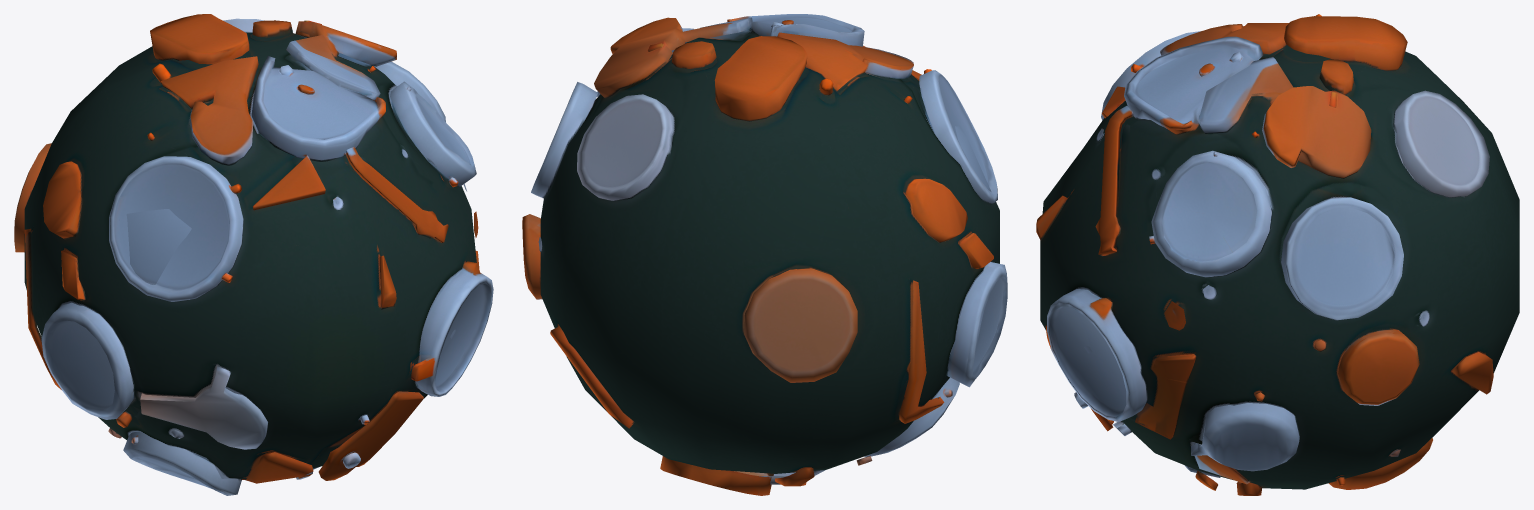
The model's file is metal+sphere+3d+model.fbx.
3 views of the same model, side by side, from view 1: azimuth 30°, elevation 25°; view 2: azimuth 150°, elevation 25°; view 3: azimuth 270°, elevation 25° (orthographic). The views are drawn at different scales.
Visible parts, largest first — view 1: tripo_7b4fe234_aa74_40f7_b0d7_00042da2679d; view 2: tripo_7b4fe234_aa74_40f7_b0d7_00042da2679d; view 3: tripo_7b4fe234_aa74_40f7_b0d7_00042da2679d.
Part boxes in pixels (x1,y1,x2,y2): tripo_7b4fe234_aa74_40f7_b0d7_00042da2679d: (14,14,493,495); tripo_7b4fe234_aa74_40f7_b0d7_00042da2679d: (522,14,1007,495); tripo_7b4fe234_aa74_40f7_b0d7_00042da2679d: (1036,14,1519,495).
Size of the model in its own units: 0.9995 by 0.9868 by 0.9878.
1 material, 1 textured.
